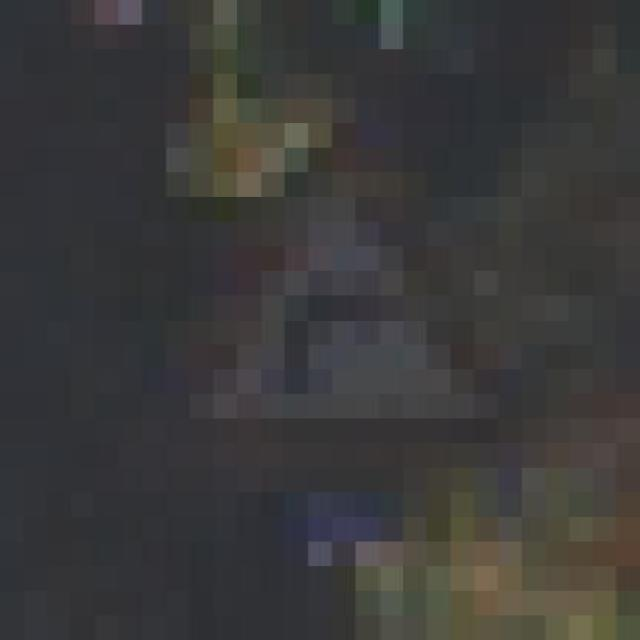Dangerous Rright Curve Ahead: (118, 74, 570, 492)
